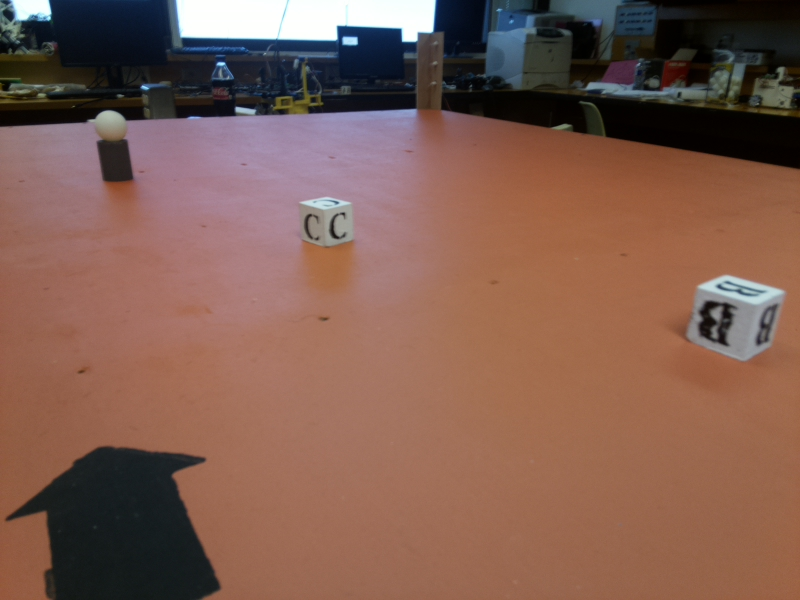blockB: (690, 276, 786, 363)
blockC: (303, 195, 353, 250)
corner: (413, 30, 447, 113)
obstacle: (96, 110, 138, 183)
start: (1, 435, 224, 600)
